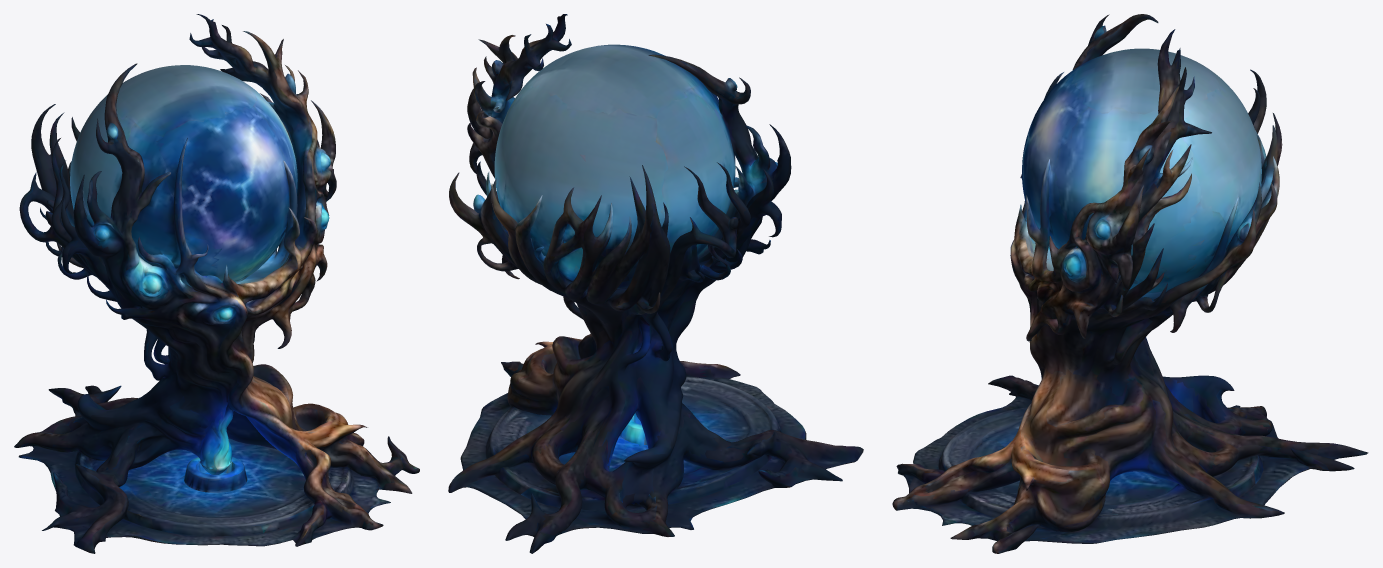
File: tower.glb
3 views of the same model, side by side, from view 1: azimuth 30°, elevation 25°; view 2: azimuth 150°, elevation 25°; view 3: azimuth 270°, elevation 25° (orthographic). The views are drawn at different scales.
Visible parts, largest first — view 1: node_0; view 2: node_0; view 3: node_0.
Part boxes in pixels (box(x1,y1,x2,y2)): node_0: box(14, 14, 419, 553); node_0: box(448, 14, 863, 553); node_0: box(892, 14, 1368, 553).
Bounding box in the file's own units: 0.7024 × 0.832 × 0.7916.
1 material, 1 textured.
